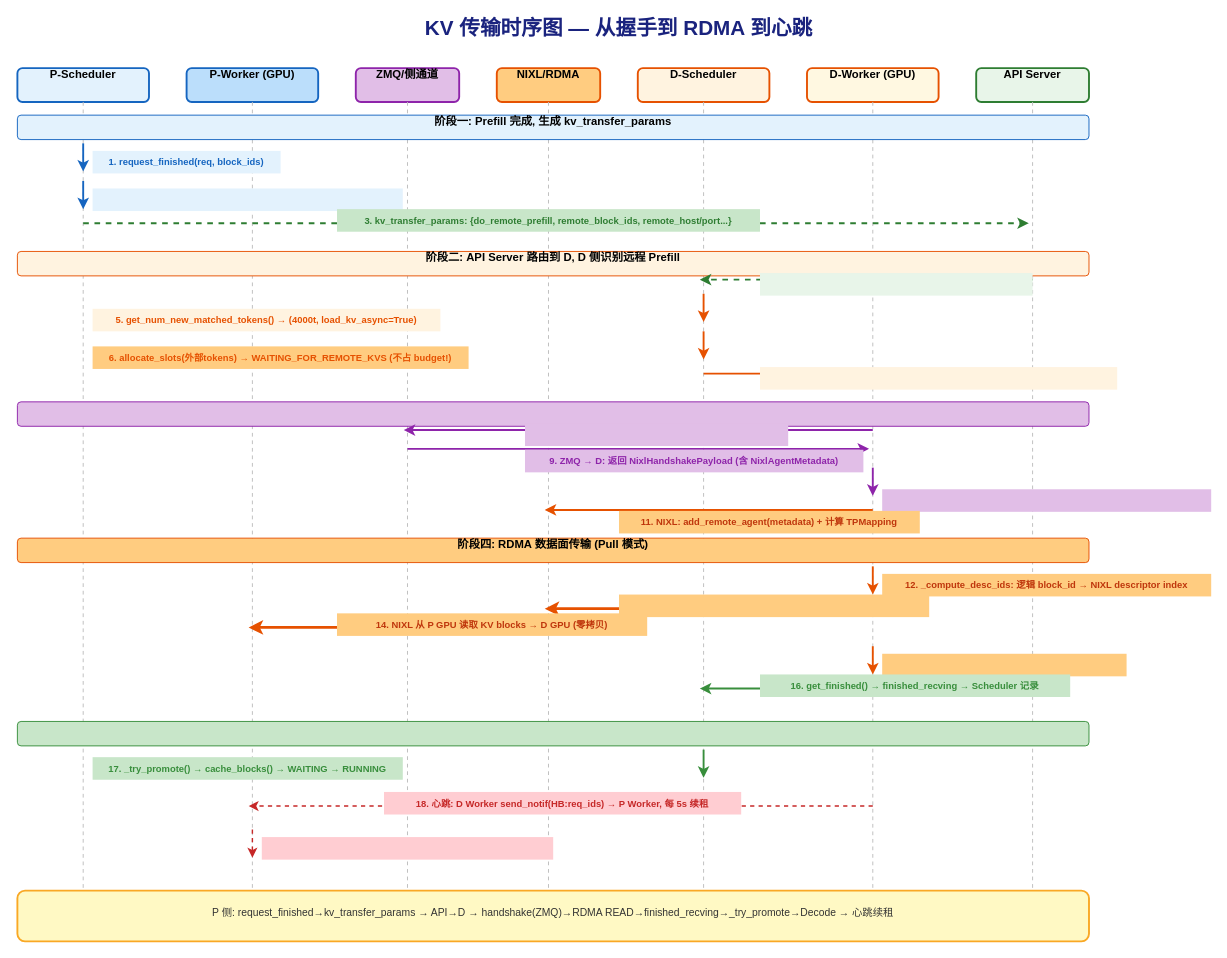
Some shapes in this 1227 by 958 pixel diagram are drawn without their labels. Here are the shapes that lost their labels. From the top down, the centre of each, then its label:
At point 247,199: "2. delay_free_blocks = True, _reqs_need_send[req_id]=过期时间".
At point 896,284: "4. API 注入 kv_transfer_params → D add_request()".
At point 938,378: "7. build_connector_meta() → NixlConnectorMetadata → SchedulerOutput".
At point 552,413: "阶段三: ZMQ 侧通道握手 + Agent 注册".
At point 656,434: "8. D Worker → ZMQ: 发送 GET_META_MSG 请求".
At point 1046,500: "10. 两阶段解码: compat_hash 校验 → 解码 NixlAgentMetadata".
At point 774,605: "13. make_prepped_xfer(READ) + transfer() → 异步 RDMA READ".
At point 1004,664: "15. check_xfer_state(handle): DONE → 传输完成".
At point 552,733: "阶段五: 提升请求 + 心跳续租".
At point 407,848: "19. P Worker: _handle_heartbeat() → 续租 _reqs_to_send".
